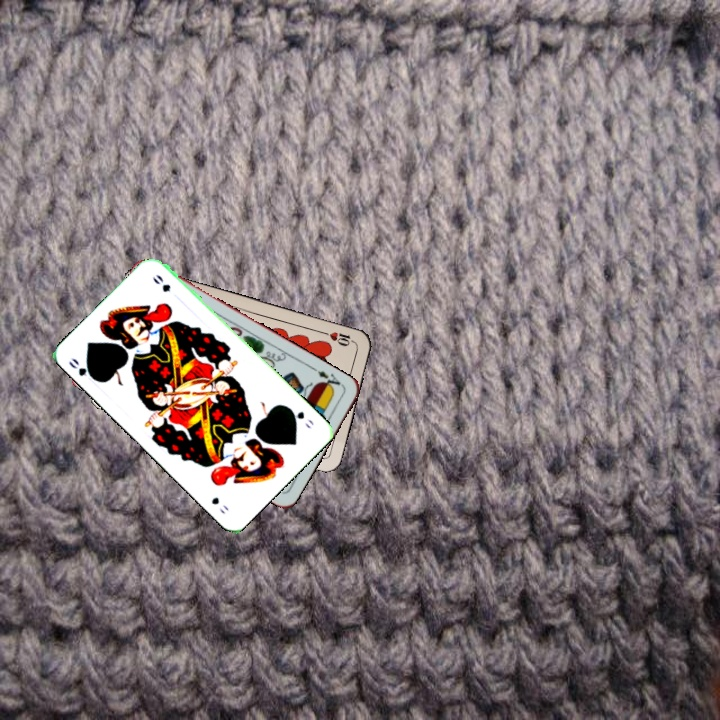EA: (313, 367, 346, 393)
GO: (64, 354, 100, 384), (284, 403, 317, 432)
H10: (318, 327, 358, 348)
